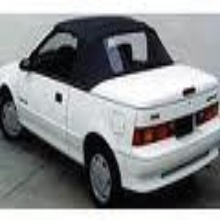no damage: (1, 16, 219, 208)
